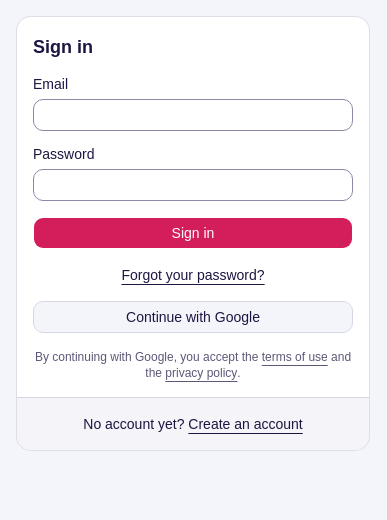
Test: LoginPage › shows the page and the backend error in English
The width and height of the screenshot is (387, 520).
Type "alice@example.com" into the field labelled "Email" at (193, 115), box top-left (33, 99), bottom-right (353, 131)
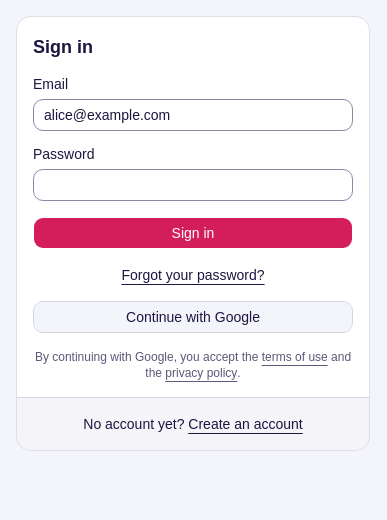
Type "wrong password" into the password field labelled "Password" at (193, 185), box top-left (33, 169), bottom-right (353, 201)
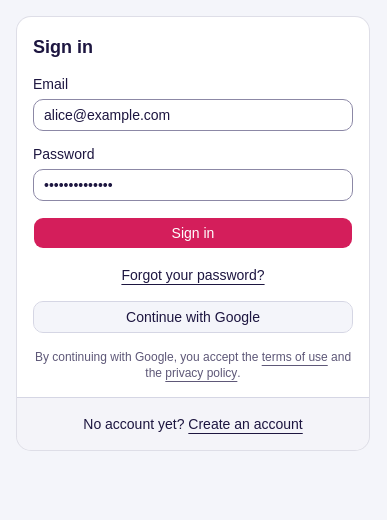
Click the button "Sign in" at (193, 233), box top-left (33, 217), bottom-right (353, 249)
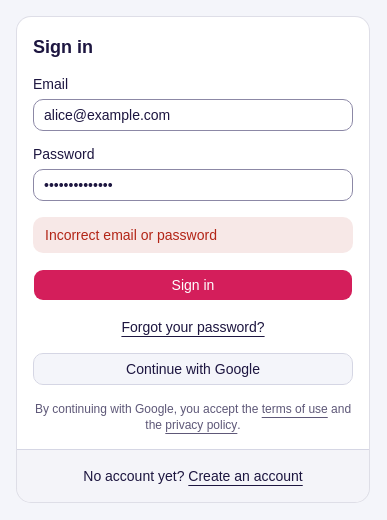
Expected: the heading "Sign in" is shown, top-left (33, 37), bottom-right (93, 57)
Result: the message reads "Incorrect email or password" at top-left (45, 227), bottom-right (217, 243)
